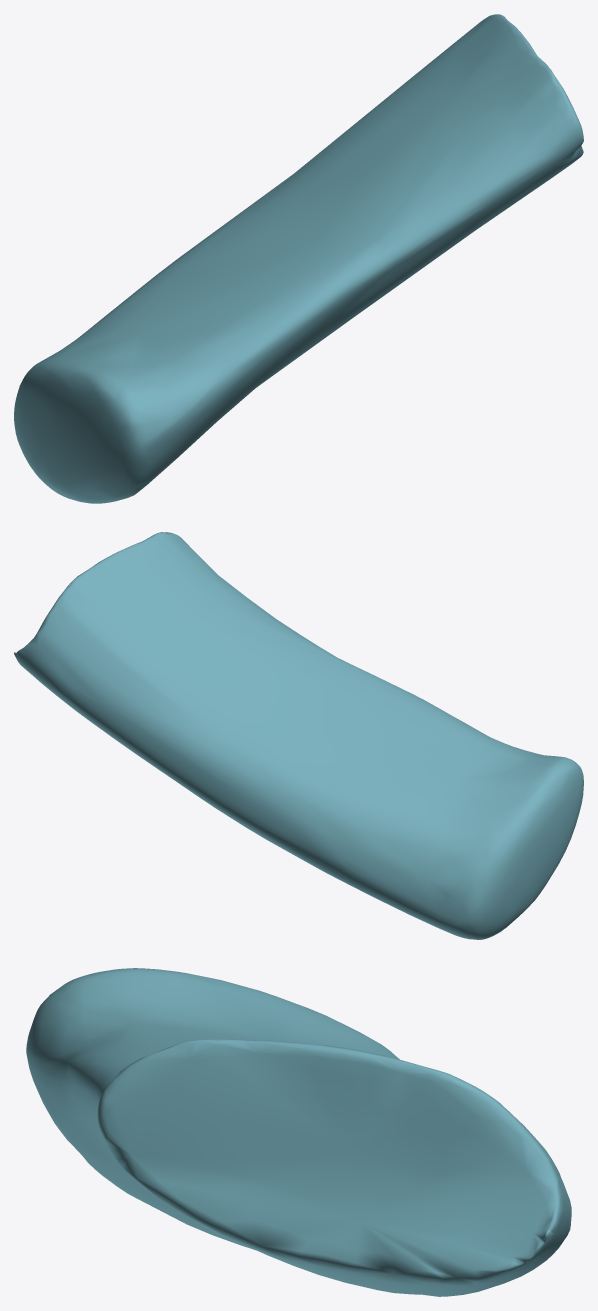
The picture shows the model from 3 angles, top to bottom: view 1: azimuth 30°, elevation 25°; view 2: azimuth 150°, elevation 25°; view 3: azimuth 270°, elevation 25°; orthographic projection. The views are drawn at different scales.
Visible parts, largest first — view 1: 左侧第三肋软骨; view 2: 左侧第三肋软骨; view 3: 左侧第三肋软骨.
Part boxes in pixels (bbox=[...]): 左侧第三肋软骨: bbox=[14, 14, 583, 503]; 左侧第三肋软骨: bbox=[14, 532, 583, 939]; 左侧第三肋软骨: bbox=[26, 968, 571, 1296].
Size of the model in its own units: 0.055 by 0.0329 by 0.0285.
